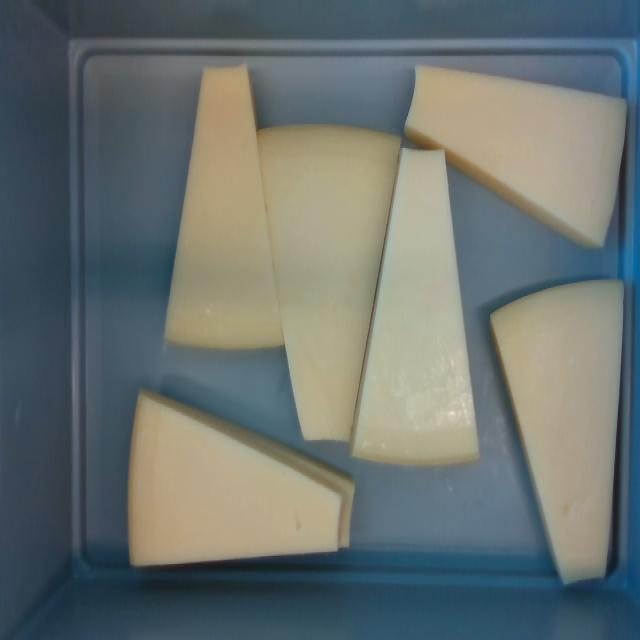cheese: (259, 127, 397, 441), (490, 280, 628, 582), (404, 67, 627, 247), (355, 147, 480, 463), (129, 391, 342, 568), (163, 62, 286, 348)
